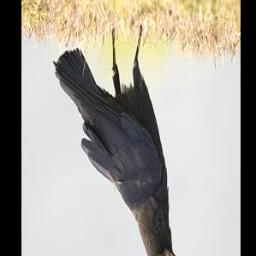Crow: (54, 24, 182, 256)
